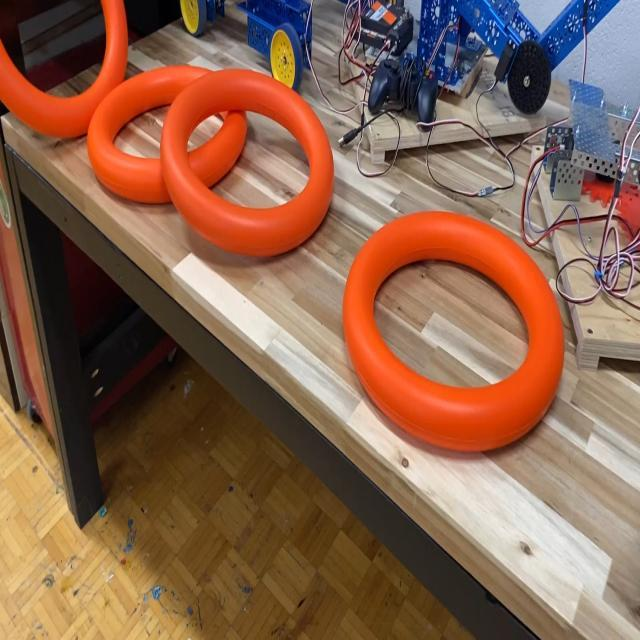note: (341, 210, 567, 457), (158, 66, 334, 260), (87, 64, 249, 207), (0, 0, 128, 142)
